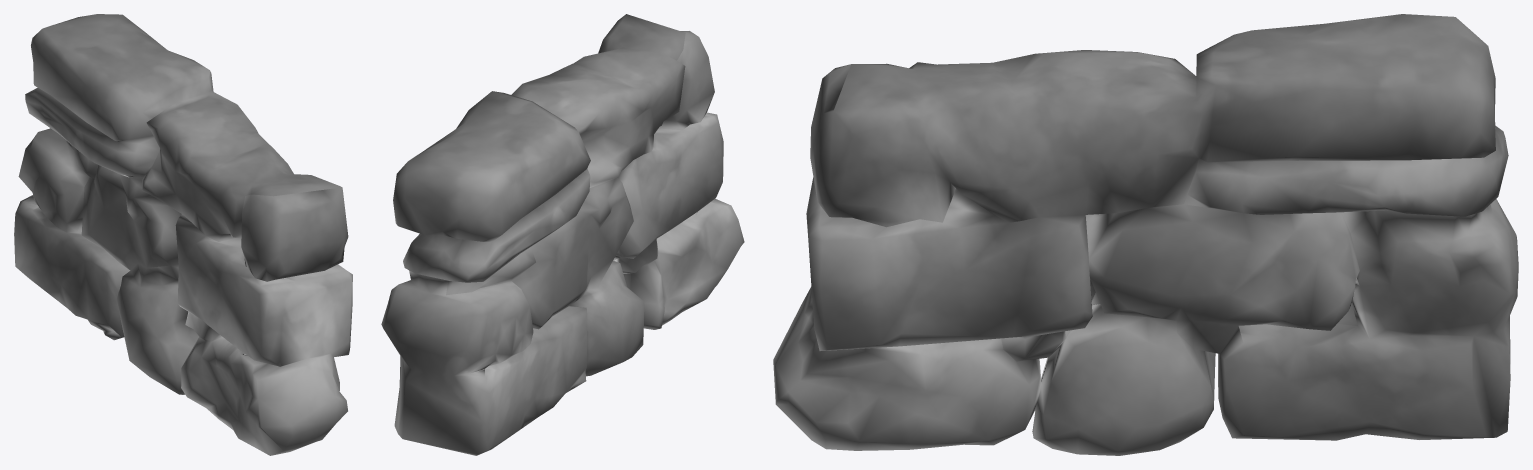
Rendered from SM_WallBricks_03a.fbx.
3 renders of one model, left to right at view 1: azimuth 30°, elevation 25°; view 2: azimuth 150°, elevation 25°; view 3: azimuth 270°, elevation 25°, orthographic. The views are drawn at different scales.
Parts seen in each view (by area): view 1: SM_WallBricks_03a_LOD0; view 2: SM_WallBricks_03a_LOD0; view 3: SM_WallBricks_03a_LOD0.
Boxes of the visible parts, bbox=[...] form: SM_WallBricks_03a_LOD0: bbox=[14, 14, 352, 455]; SM_WallBricks_03a_LOD0: bbox=[381, 14, 744, 455]; SM_WallBricks_03a_LOD0: bbox=[773, 14, 1518, 455].
Size of the model in its own units: 64.3 by 255 by 149.
